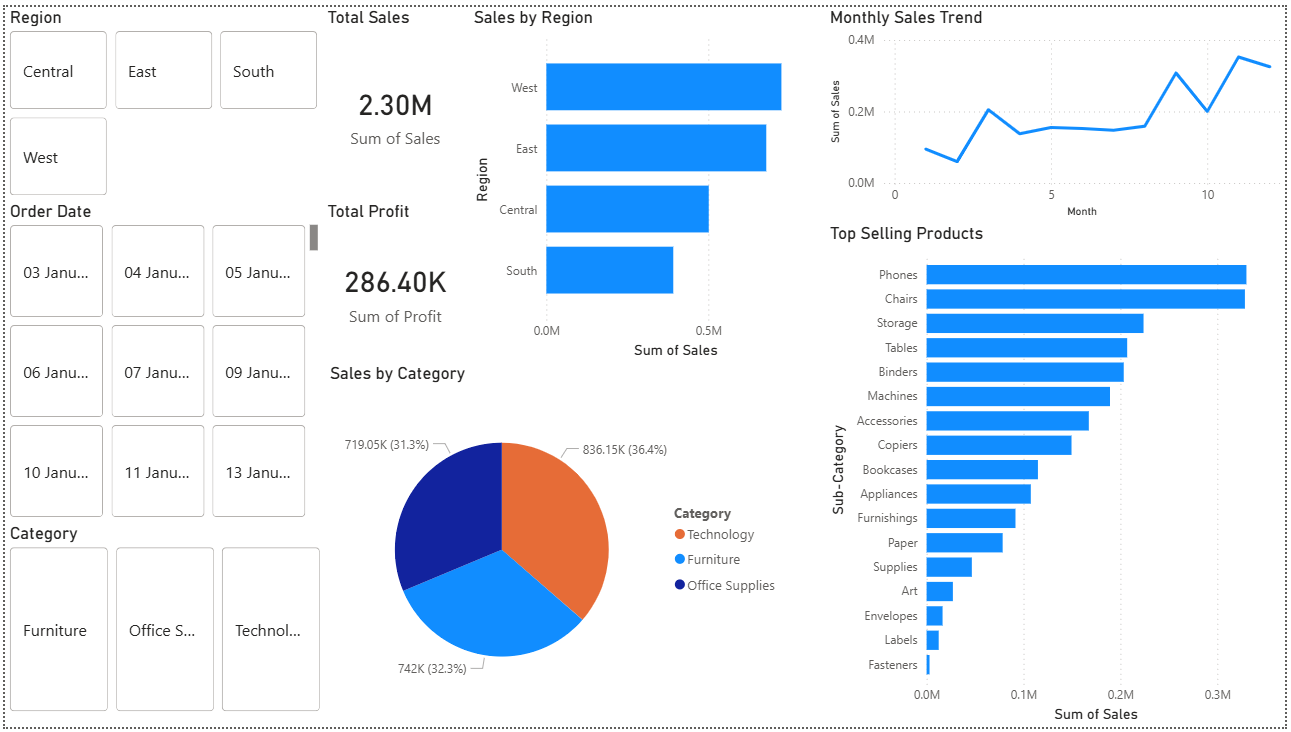

The page's visual inventory and layout, read from the dashboard file:
{"tool":"powerbi","page":{"name":"Page 1","canvas":[1280,720],"ordinal":0},"visuals":[{"type":"card","title":"Total Sales","fields":{"Values":["Sum(clean_sales_data.Sales)"]},"box":[318,0,146,194],"z":0},{"type":"card","title":"Total Profit","fields":{"Values":["Sum(clean_sales_data.Profit)"]},"box":[318,194,146,162],"z":1},{"type":"clusteredBarChart","title":"Sales by Region","fields":{"Category":["clean_sales_data.Region"],"Y":["Sum(clean_sales_data.Sales)"]},"box":[464,0,356,356],"z":2},{"type":"lineChart","title":"Monthly Sales Trend","fields":{"Category":["clean_sales_data.Month"],"Y":["Sum(clean_sales_data.Sales)"]},"box":[820,0,460,216],"z":3},{"type":"clusteredBarChart","title":"Top Selling Products","fields":{"Category":["clean_sales_data.Sub-Category"],"Y":["Sum(clean_sales_data.Sales)"]},"box":[820,216,460,504],"z":4},{"type":"pieChart","title":"Sales by Category","fields":{"Category":["clean_sales_data.Category"],"Y":["Sum(clean_sales_data.Sales)"]},"box":[320,356,464,354],"z":5},{"type":"advancedSlicerVisual","fields":{"Values":["clean_sales_data.Region"]},"box":[0,0,318,194],"z":6},{"type":"advancedSlicerVisual","fields":{"Values":["clean_sales_data.Category"]},"box":[0,516,320,194],"z":7},{"type":"advancedSlicerVisual","fields":{"Values":["clean_sales_data.Order Date"]},"box":[0,194,318,322],"z":8}]}

Visuals, with their boxes in screenshot pixels (x1, y1, x2, y2), scaled from the page's 1280x720 canvas onto the 1291x732 screenshot:
"Total Sales" card: box=[321, 0, 468, 197]
"Total Profit" card: box=[321, 197, 468, 362]
"Sales by Region" clusteredBarChart: box=[468, 0, 827, 362]
"Monthly Sales Trend" lineChart: box=[827, 0, 1290, 220]
"Top Selling Products" clusteredBarChart: box=[827, 220, 1290, 731]
"Sales by Category" pieChart: box=[323, 362, 791, 722]
advancedSlicerVisual - clean_sales_data.Region: box=[0, 0, 321, 197]
advancedSlicerVisual - clean_sales_data.Category: box=[0, 525, 323, 722]
advancedSlicerVisual - clean_sales_data.Order Date: box=[0, 197, 321, 525]
